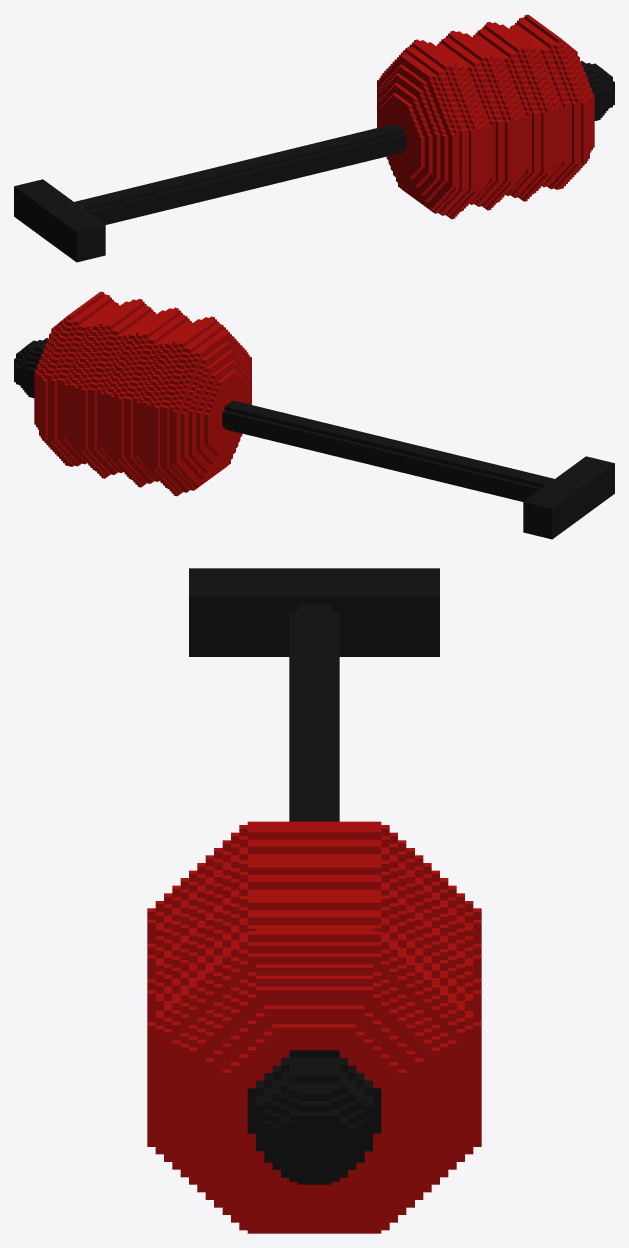
File: plunger_futuristic.glb
3 renders of one model, top to bottom at view 1: azimuth 30°, elevation 25°; view 2: azimuth 150°, elevation 25°; view 3: azimuth 270°, elevation 25°, orthographic. The views are drawn at different scales.
Parts seen in each view (by area): view 1: plunger_futuristic:compound; view 2: plunger_futuristic:compound; view 3: plunger_futuristic:compound.
Boxes of the visible parts, x1,y1,x2,y2 form: plunger_futuristic:compound: (14,14,614,262); plunger_futuristic:compound: (14,291,614,539); plunger_futuristic:compound: (147,568,481,1233).
Bounding box in the file's own units: 0.62 × 0.16 × 0.16.
